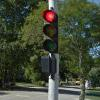Traffic light: (36, 5, 70, 57)
